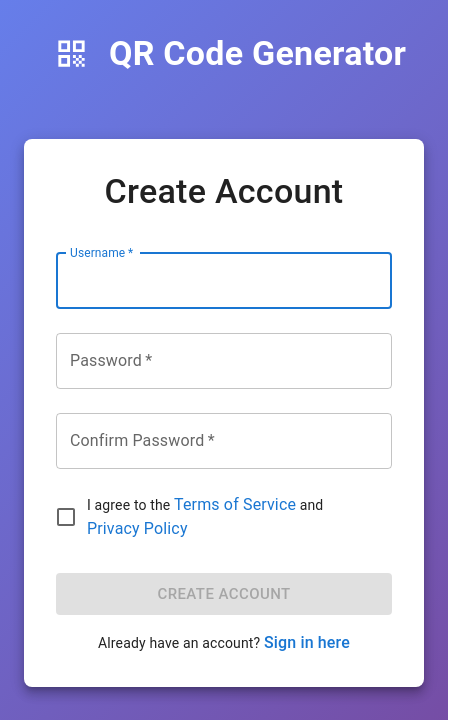
RegisterForm › shows password strength indicator
Type "Password123!" into the password field labelled "Password *" at (224, 361), box x1=56 y1=333 x2=392 y2=389
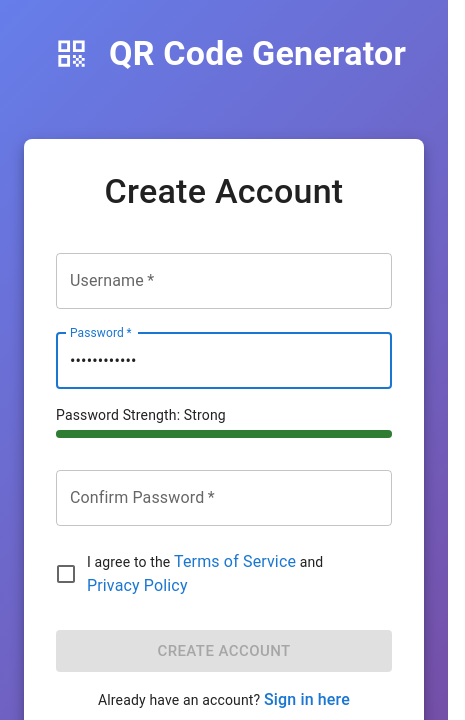
expect the text "Password Strength: Strong" is shown: met, box x1=56 y1=407 x2=226 y2=423
